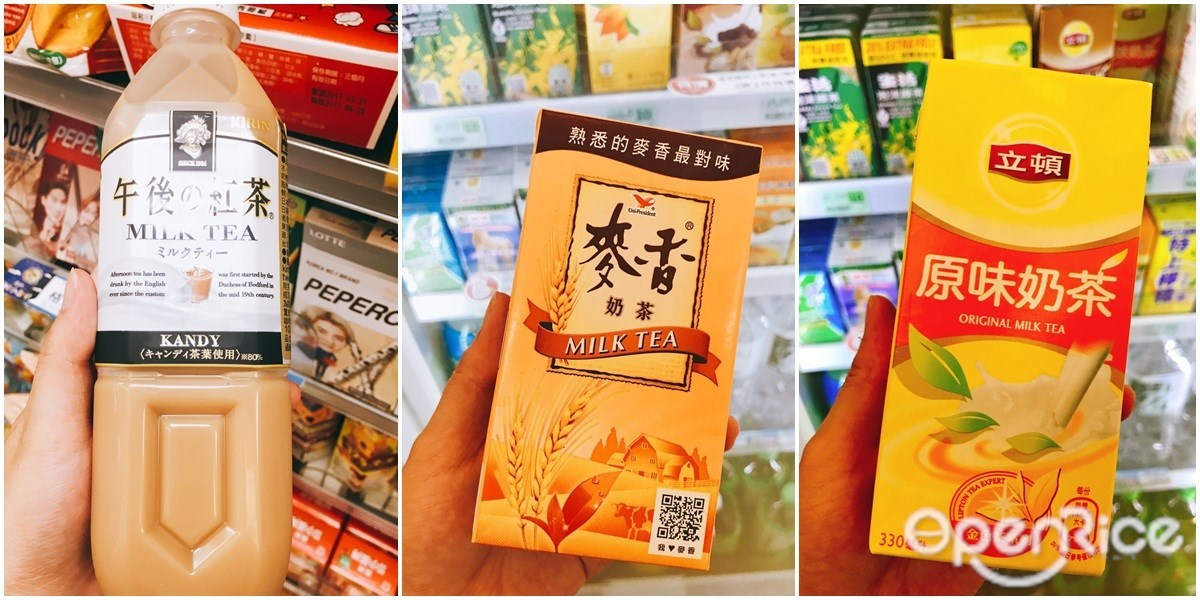milk tea: (483, 109, 735, 565)
